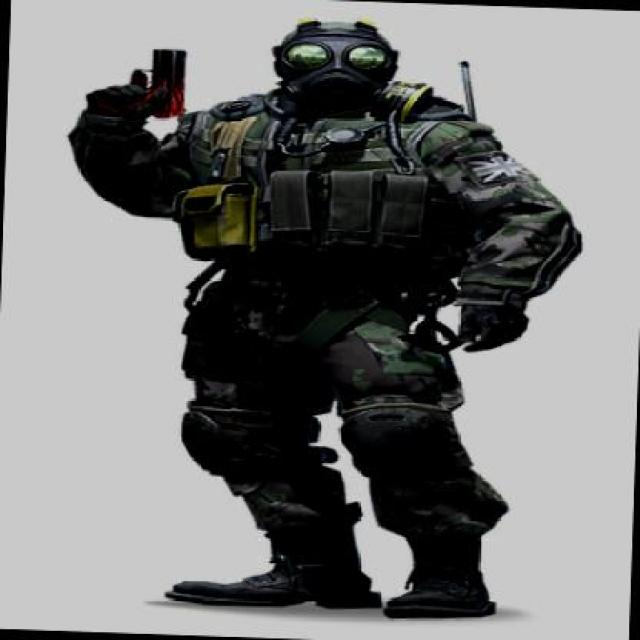MIL_Pax: (47, 6, 593, 626)
